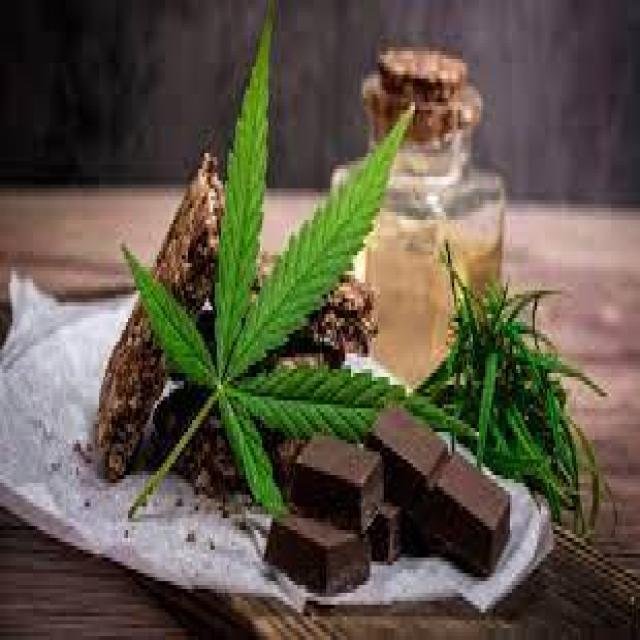cannabis: (122, 0, 475, 522)
